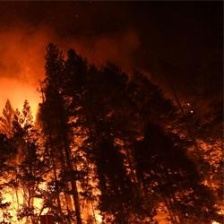fire: (5, 90, 117, 223)
